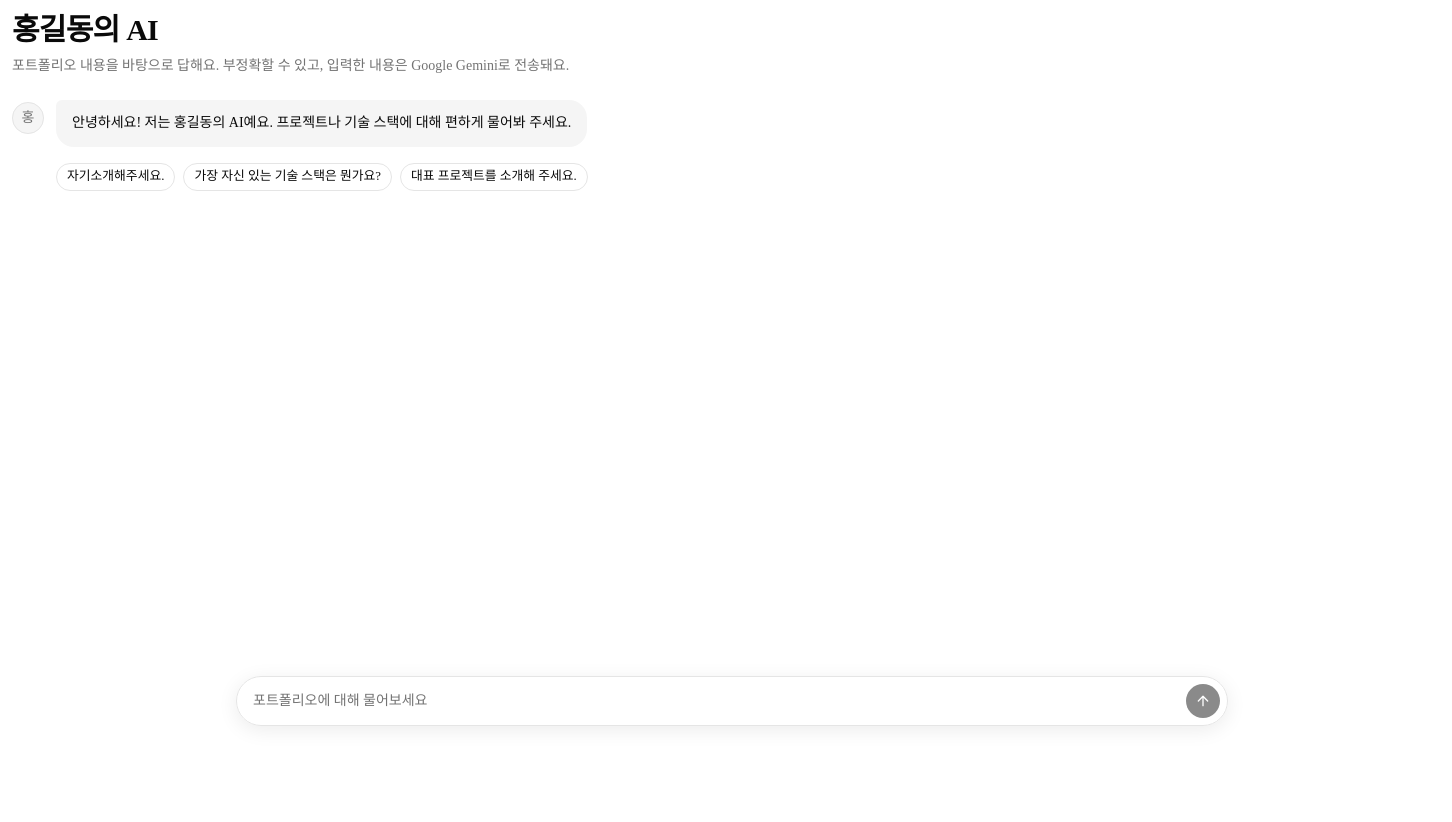
ChatPanel › 네트워크 오류도 안내 문구로 보여준다
The image size is (1452, 822).
Type "안녕" into the field named "질문" at (715, 701), box [253, 683, 1177, 719]
Then press Enter
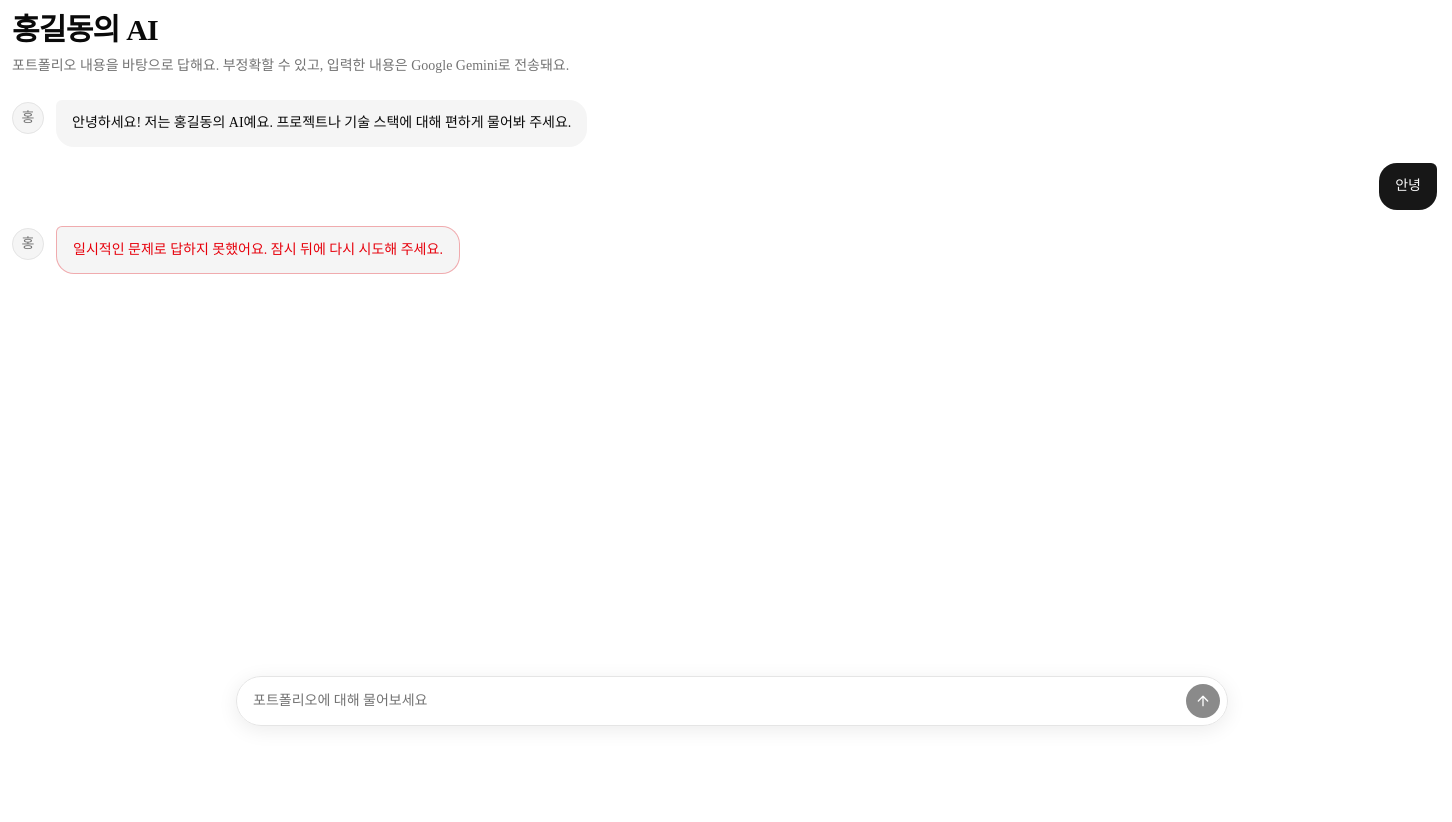
Now the message shows "잠시 뒤에 다시 시도해 주세요", box [73, 242, 443, 256]
